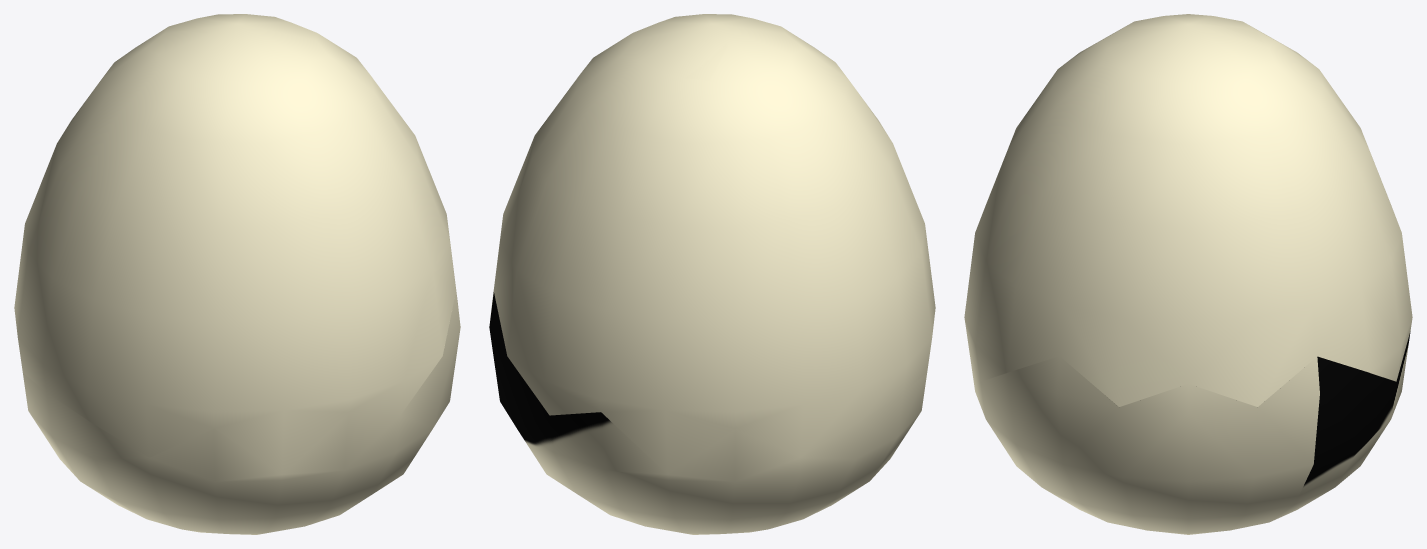
Rendered from lele_sit_egg.FBX.
3 views of the same model, side by side, from view 1: azimuth 30°, elevation 25°; view 2: azimuth 150°, elevation 25°; view 3: azimuth 270°, elevation 25° (orthographic).
Parts seen in each view (by area): view 1: Dummy001; view 2: Dummy001; view 3: Dummy001.
Boxes of the visible parts, x1=… form: Dummy001: x1=14, y1=14, x2=460, y2=534; Dummy001: x1=489, y1=14, x2=935, y2=534; Dummy001: x1=964, y1=14, x2=1412, y2=534.
Bounding box in the file's own units: 239 × 240 × 288.
Materials: 1 (1 with a texture image).
